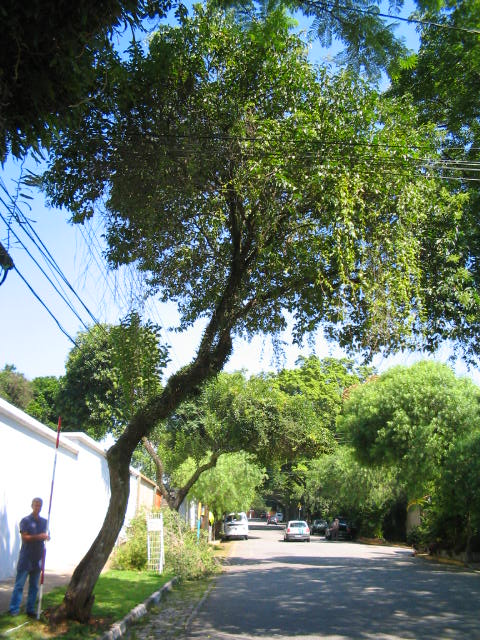crown: (60, 6, 475, 370)
stem: (58, 358, 243, 619)
stick: (31, 415, 61, 619)
tree: (59, 4, 475, 620)
